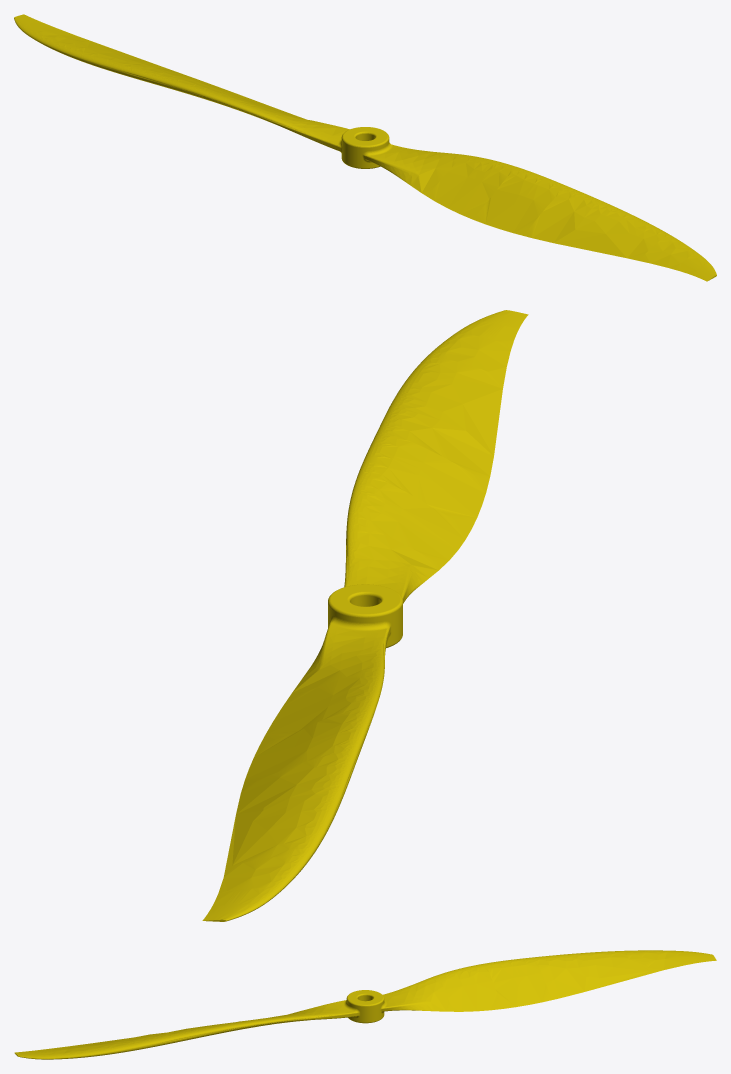
File: prop_fr.dae
The picture shows the model from 3 angles, top to bottom: view 1: azimuth 30°, elevation 25°; view 2: azimuth 150°, elevation 25°; view 3: azimuth 270°, elevation 25°; orthographic projection. The views are drawn at different scales.
Visible parts, largest first — view 1: tmp_export_Part__Feature.005; view 2: tmp_export_Part__Feature.005; view 3: tmp_export_Part__Feature.005.
Boxes of the visible parts, left/top/right/bottom form: tmp_export_Part__Feature.005: left=14, top=14, right=716, bottom=281; tmp_export_Part__Feature.005: left=202, top=310, right=528, bottom=921; tmp_export_Part__Feature.005: left=14, top=950, right=716, bottom=1059.
Bounding box in the file's own units: 0.0879 × 0.2429 × 0.00876.
